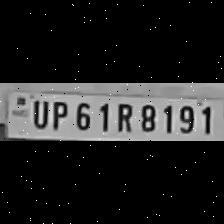1: (93, 99, 112, 133), (196, 103, 216, 135), (158, 102, 176, 134)
6: (70, 98, 92, 132)
8: (136, 100, 158, 134)
9: (174, 102, 194, 134)
P: (48, 98, 68, 132)
R: (112, 100, 134, 134)
U: (28, 97, 50, 130)
